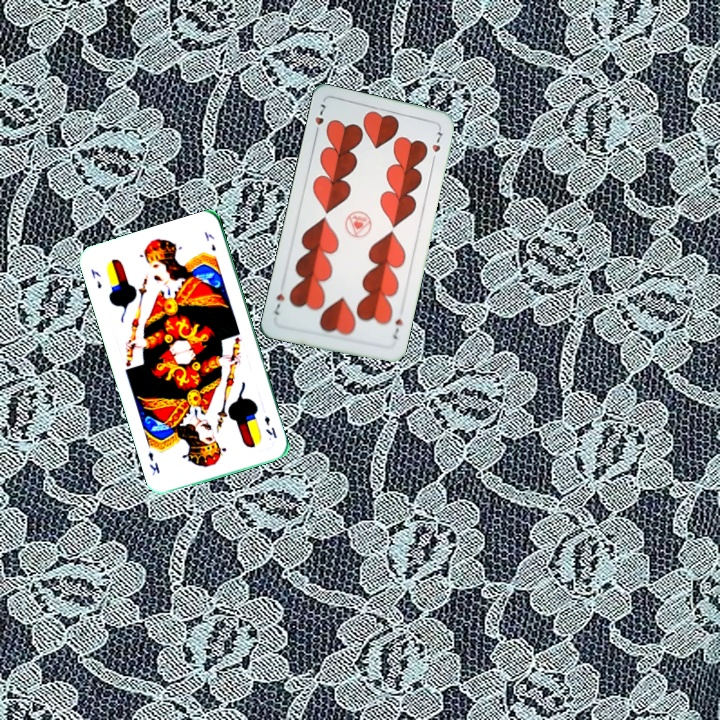EK: (260, 411, 279, 440), (87, 265, 104, 291)
H7: (311, 99, 328, 139), (388, 315, 405, 342)
